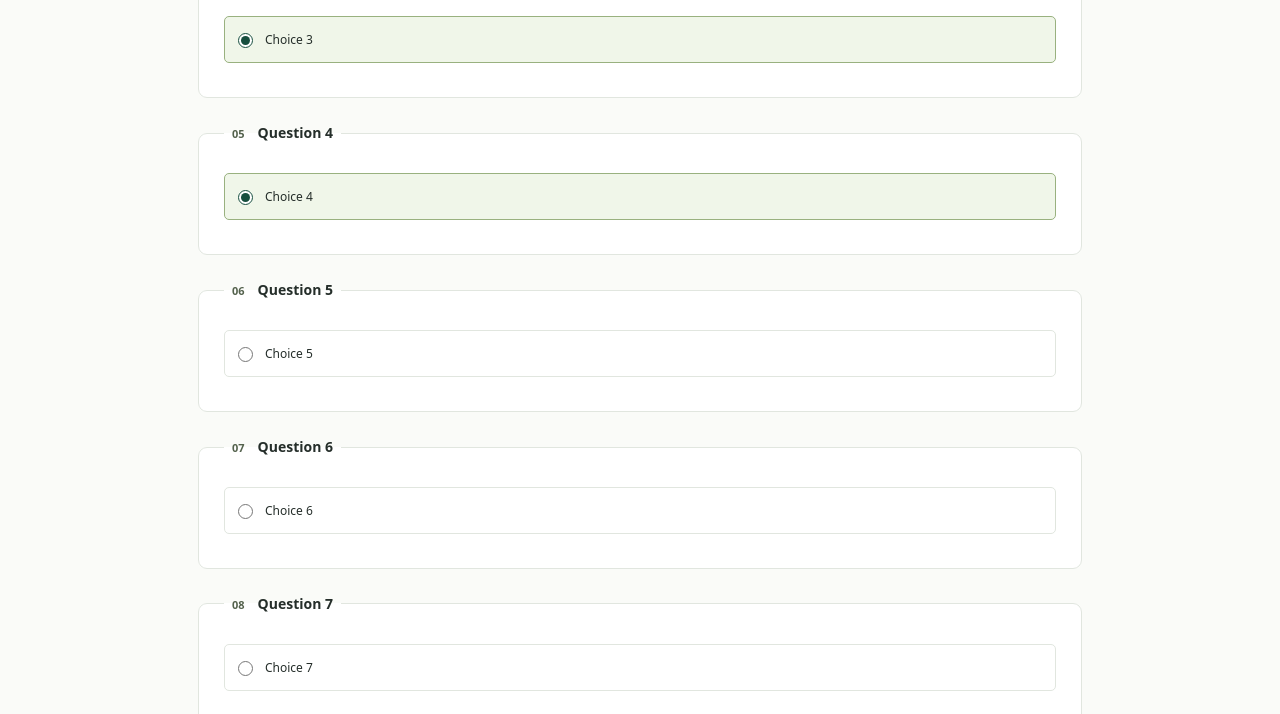
Quiz workflow › retains chosen answers when the server rejects a request
The width and height of the screenshot is (1280, 714).
Earlier steps of the test are not shown.
(page scrolled)
Click the radio button labelled "Choice 5" at (246, 354), box left=238, top=347, right=253, bottom=362
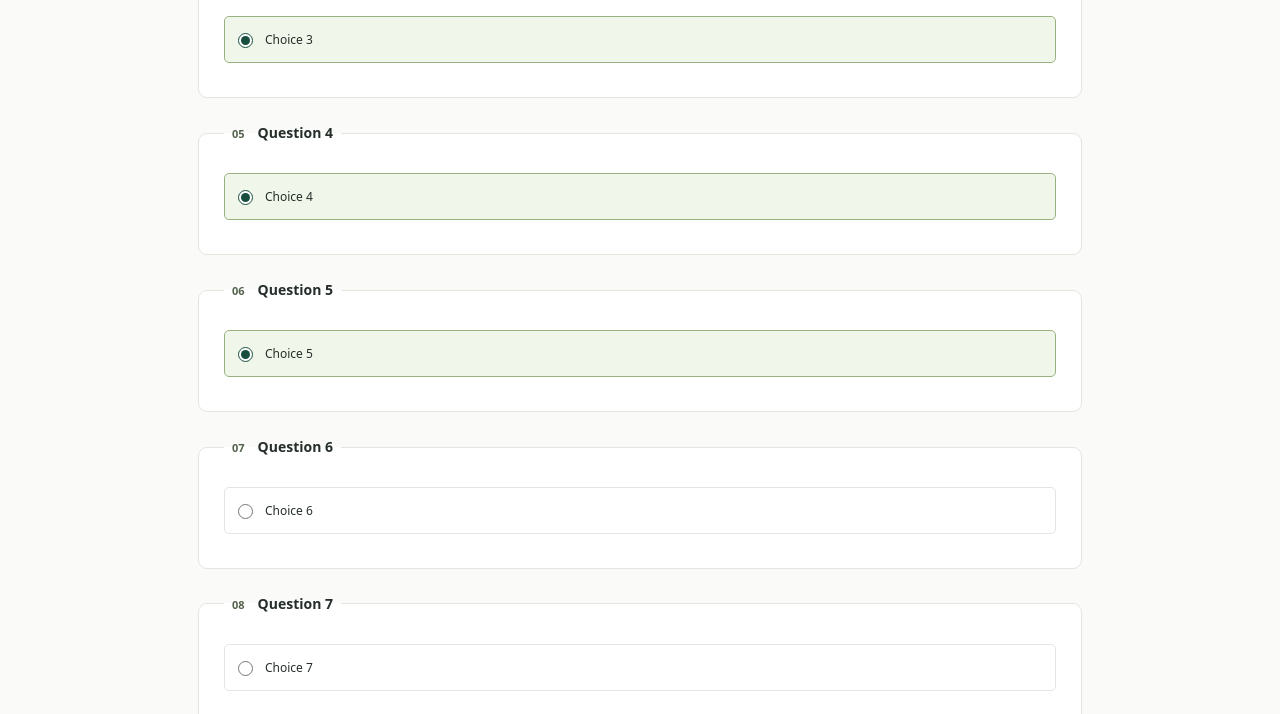
Click the radio button labelled "Choice 6" at (246, 511), box left=238, top=504, right=253, bottom=519
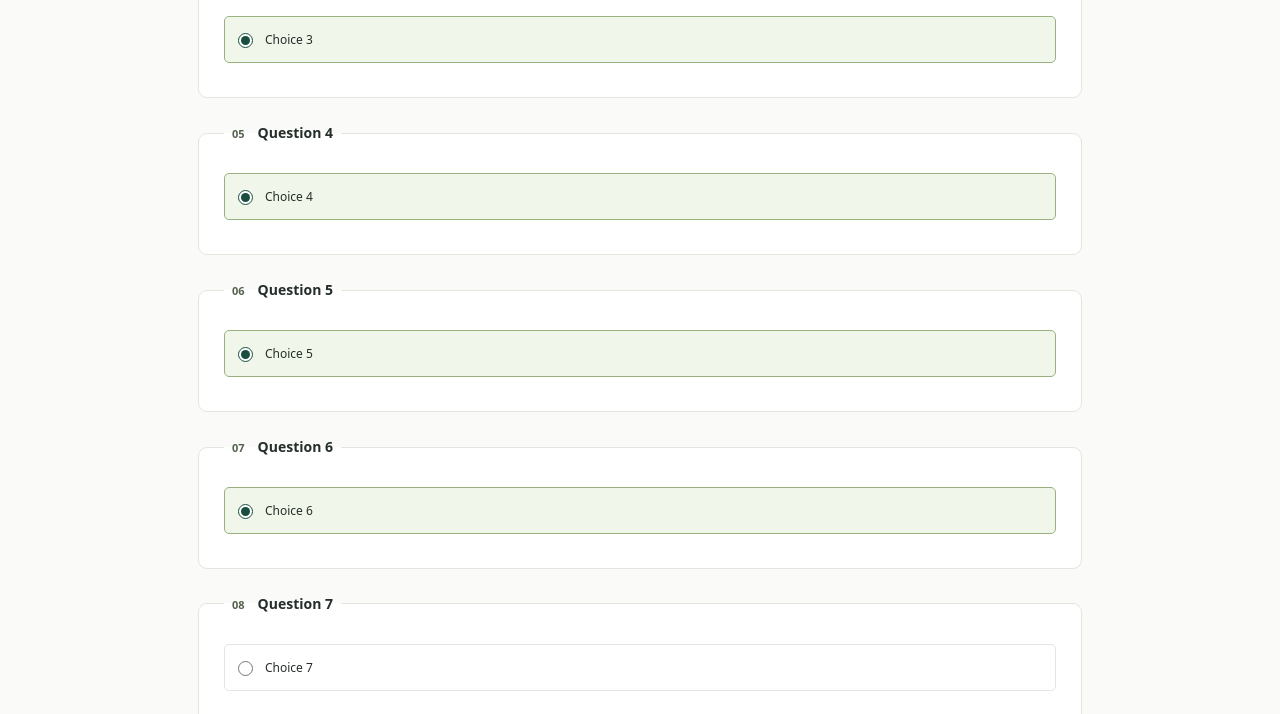
Click the radio button labelled "Choice 7" at (246, 668), box left=238, top=661, right=253, bottom=676
(page scrolled)
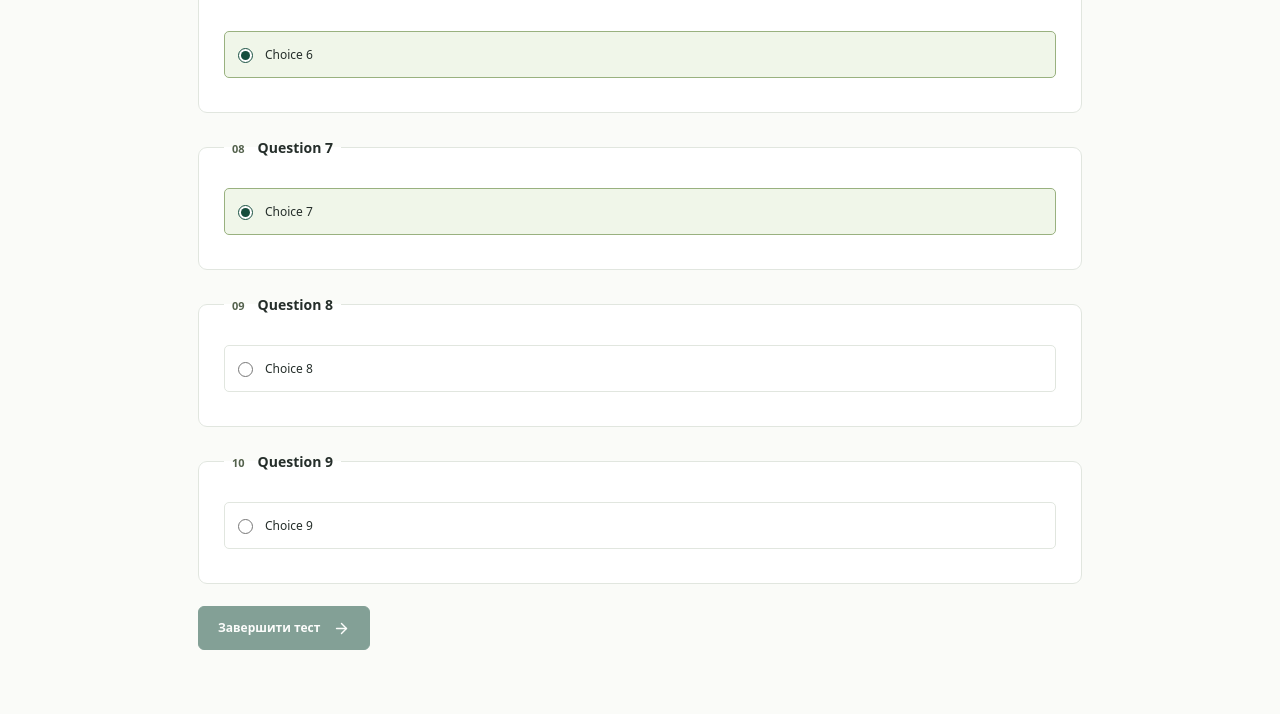
Click the radio button labelled "Choice 8" at (246, 369), box left=238, top=362, right=253, bottom=377
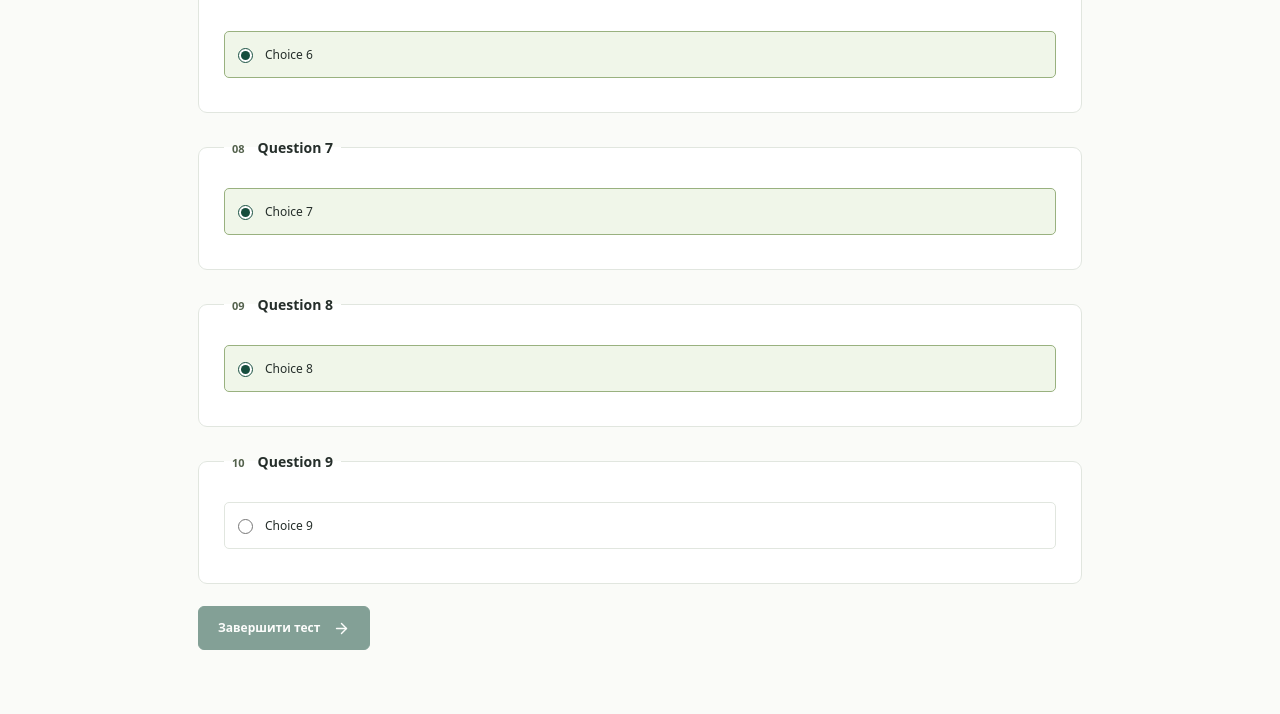
Click the radio button labelled "Choice 9" at (246, 526), box left=238, top=518, right=253, bottom=534
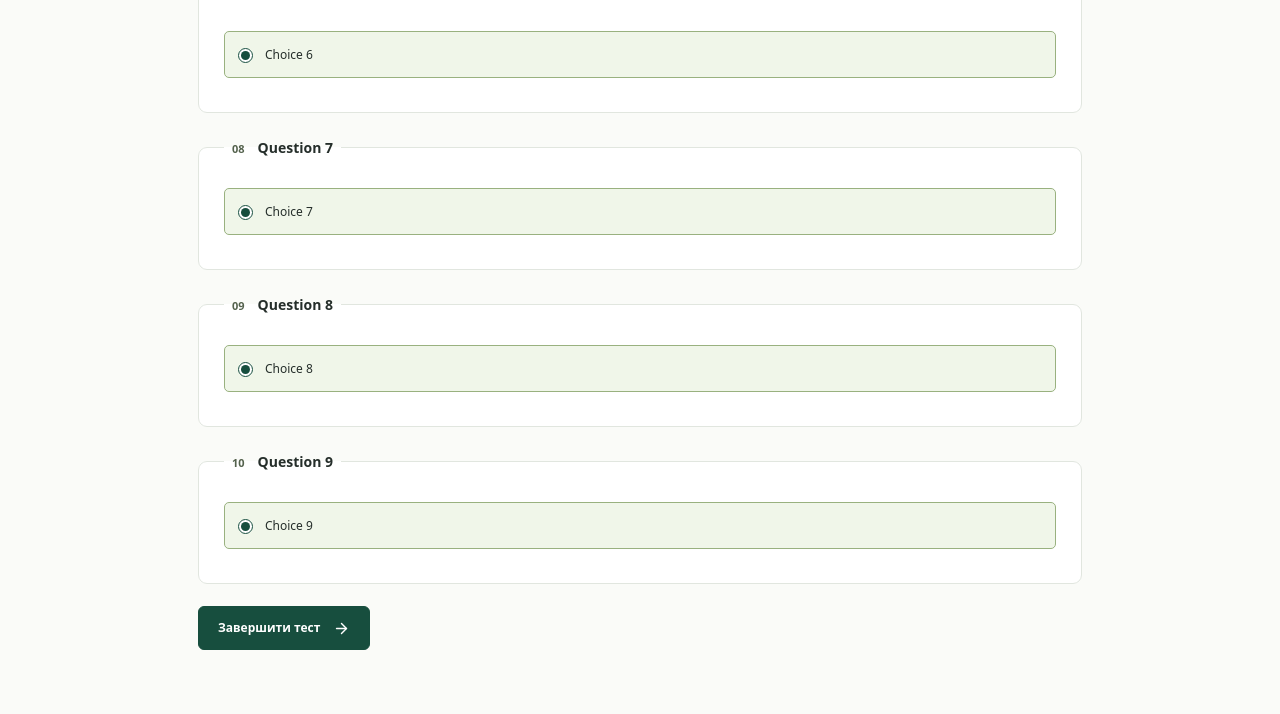
Click the button "Завершити тест" at (284, 628), box left=198, top=606, right=370, bottom=650
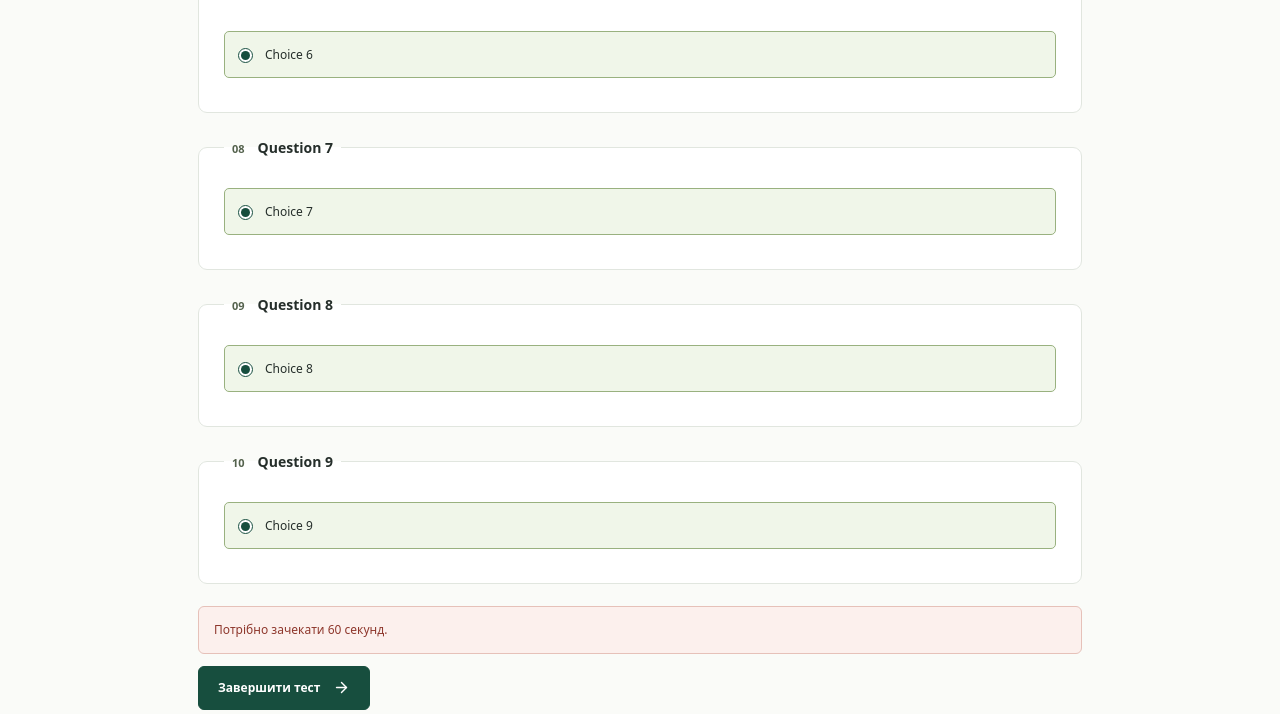
Expected: the button "Завершити тест" is enabled, left=198, top=666, right=370, bottom=710
Expected: the message shows "60 секунд", left=214, top=621, right=387, bottom=638
